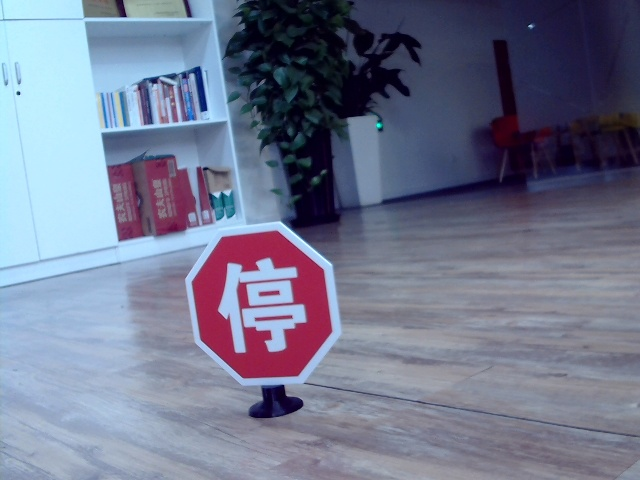stop: (214, 256, 308, 354)
